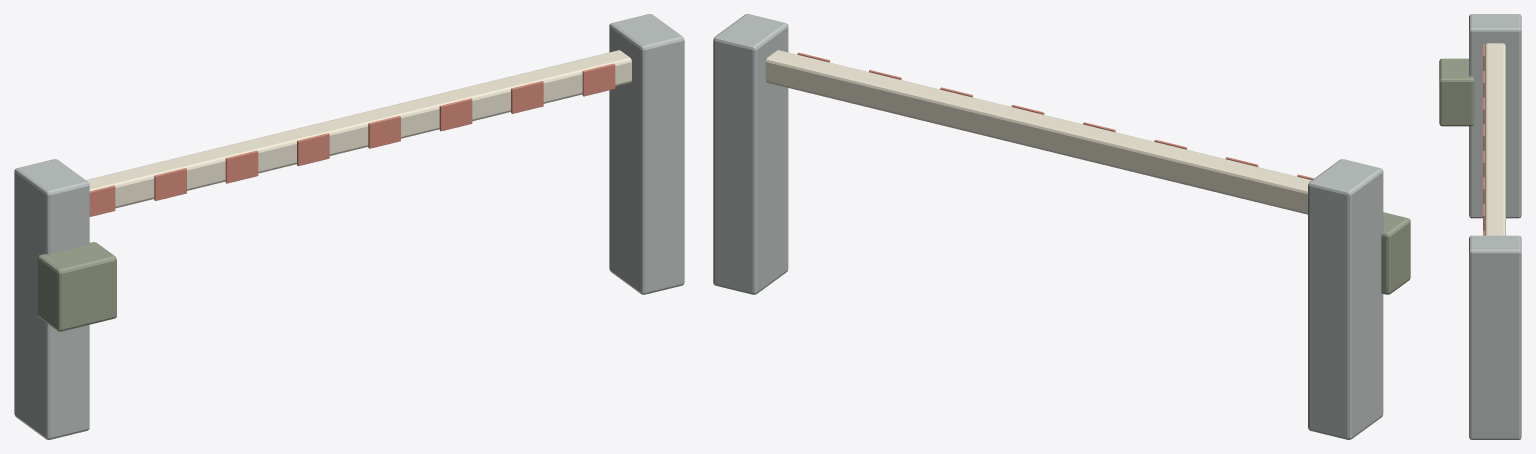
3 views of the same model, side by side, from view 1: azimuth 30°, elevation 25°; view 2: azimuth 150°, elevation 25°; view 3: azimuth 270°, elevation 25° (orthographic). The views are drawn at different scales.
Visible parts, largest first — view 1: gate pillar.001, gate pillar, barrier arm, control box, warning stripe.007, warning stripe.002, warning stripe.005, warning stripe.001, warning stripe.003, warning stripe.004, warning stripe.006, warning stripe; view 2: gate pillar, barrier arm, gate pillar.001, control box; view 3: gate pillar.001, gate pillar, barrier arm, control box.
Part boxes in pixels (left/top/right/bottom): gate pillar.001: left=609, top=14, right=684, bottom=294; gate pillar: left=14, top=159, right=89, bottom=439; barrier arm: left=86, top=50, right=631, bottom=208; control box: left=37, top=242, right=116, bottom=331; warning stripe.007: left=582, top=63, right=615, bottom=96; warning stripe.002: left=225, top=150, right=258, bottom=183; warning stripe.005: left=439, top=98, right=472, bottom=131; warning stripe.001: left=154, top=168, right=186, bottom=200; warning stripe.003: left=297, top=133, right=329, bottom=166; warning stripe.004: left=368, top=115, right=400, bottom=148; warning stripe.006: left=511, top=81, right=543, bottom=113; warning stripe: left=89, top=185, right=115, bottom=216; gate pillar: left=1308, top=159, right=1383, bottom=439; barrier arm: left=765, top=50, right=1311, bottom=214; gate pillar.001: left=713, top=14, right=788, bottom=294; control box: left=1381, top=212, right=1410, bottom=294; gate pillar.001: left=1469, top=235, right=1521, bottom=439; gate pillar: left=1469, top=14, right=1521, bottom=218; barrier arm: left=1485, top=43, right=1505, bottom=235; control box: left=1439, top=58, right=1474, bottom=126.
Bounding box in the file's own units: 3.26 × 1.2 × 0.47.
